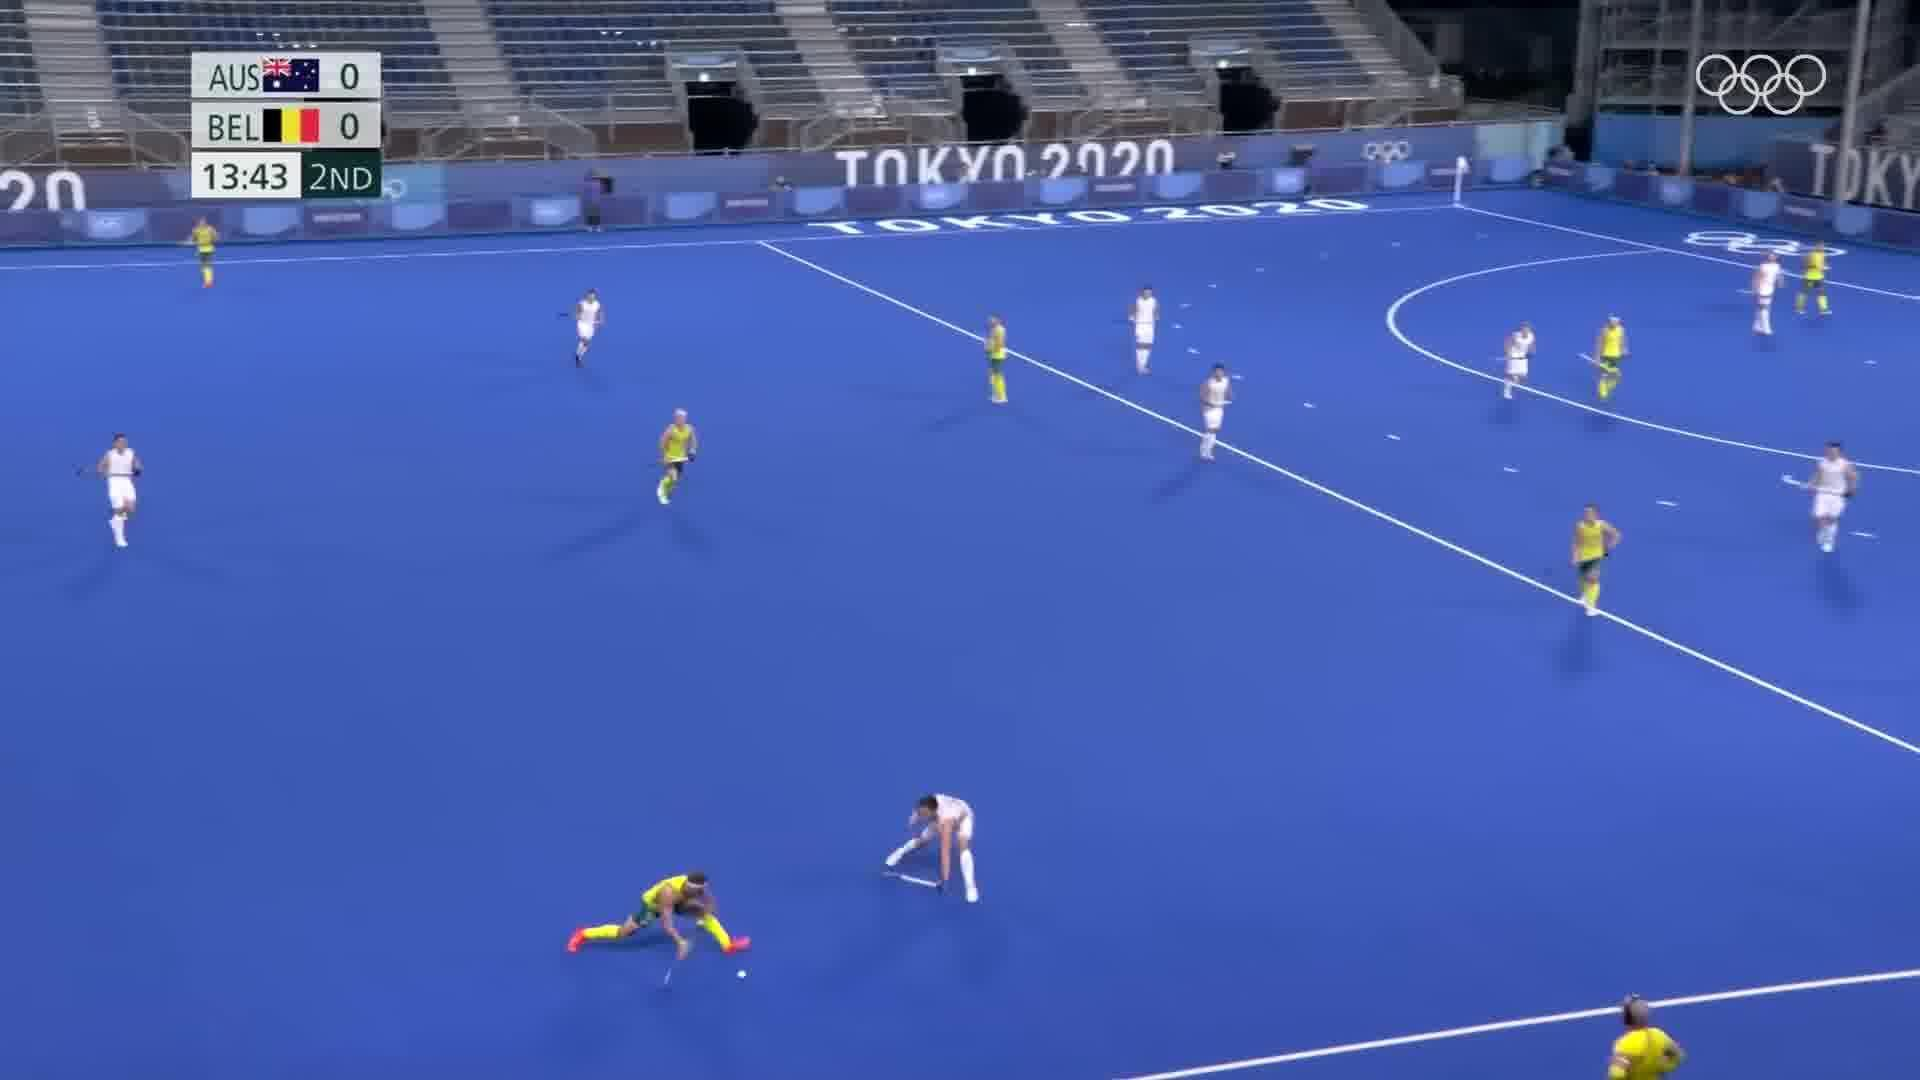ball: (733, 965, 752, 989)
